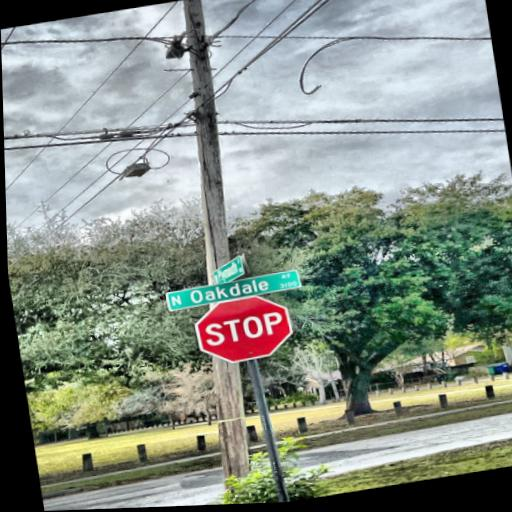pole: (146, 0, 291, 507)
